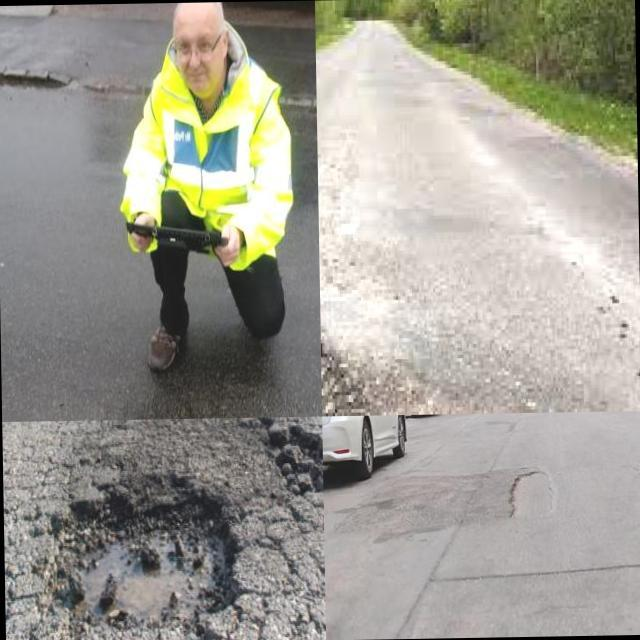Pothole: (69, 483, 242, 640), (508, 469, 553, 518)
